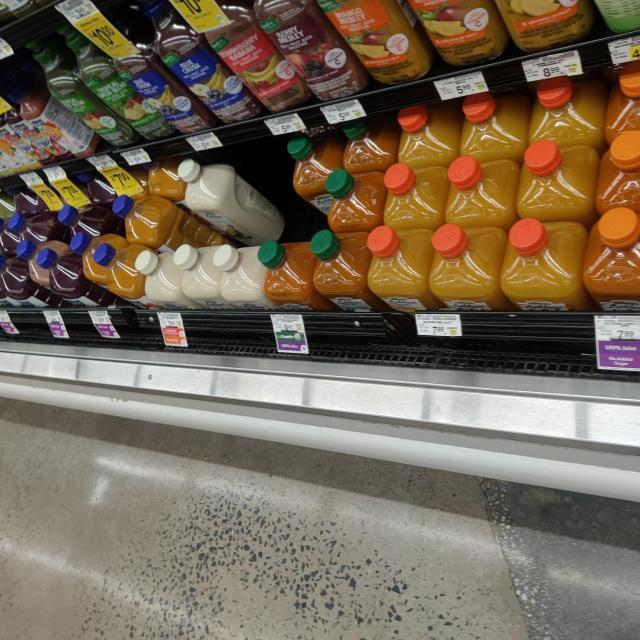Juice: (95, 6, 218, 142), (57, 20, 177, 142), (147, 0, 263, 124), (190, 0, 312, 113), (28, 36, 136, 146), (255, 0, 368, 100), (179, 158, 286, 246), (503, 219, 590, 311), (432, 228, 519, 313), (117, 197, 236, 254), (517, 144, 600, 223), (367, 226, 441, 312), (312, 232, 390, 312), (585, 208, 640, 310), (444, 155, 518, 226), (37, 250, 123, 310), (287, 138, 348, 218), (96, 245, 162, 310), (383, 163, 446, 228), (325, 167, 386, 232), (21, 242, 74, 290)
